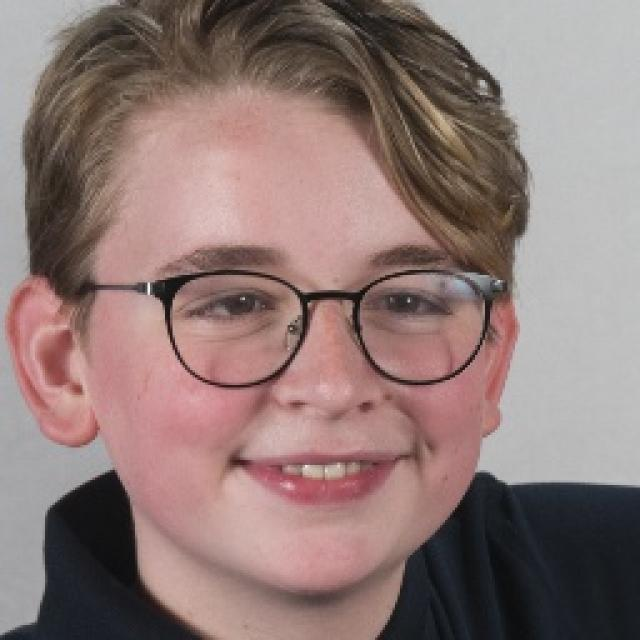earlobe: (52, 388, 98, 448), (479, 387, 502, 438)
eye: (365, 289, 453, 323), (188, 290, 271, 321)
nose: (273, 393, 393, 462)
wholeear: (5, 275, 99, 448), (479, 292, 519, 438)
